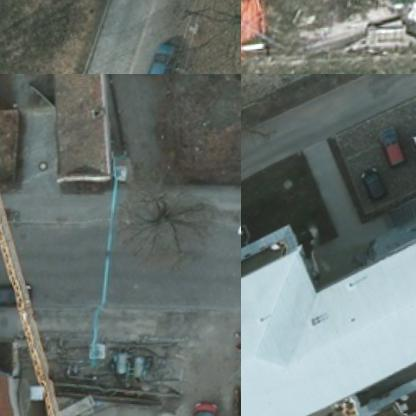car: (357, 164, 388, 206), (143, 39, 177, 73), (0, 277, 33, 310), (187, 400, 220, 415), (407, 128, 415, 187)
